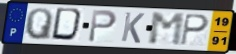D: (50, 7, 86, 44)
K: (120, 11, 146, 45)
M: (148, 12, 186, 48)
P: (87, 9, 119, 44), (179, 13, 211, 47)
Q: (24, 7, 54, 42)
